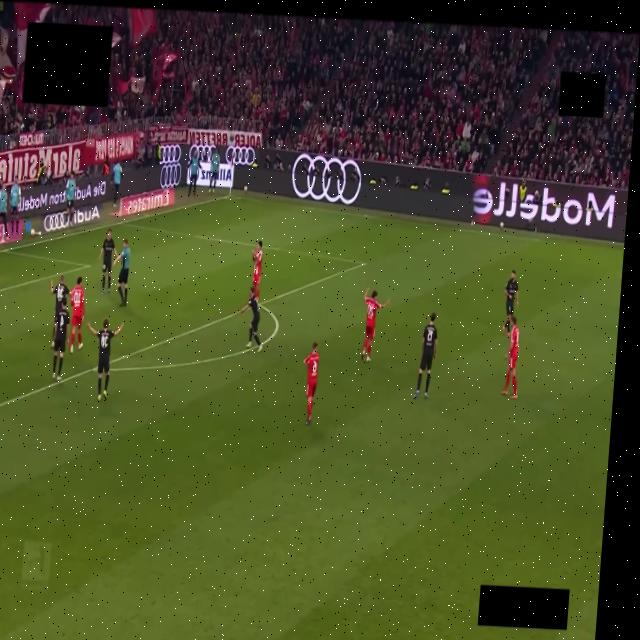player: (87, 319, 123, 400), (413, 313, 437, 399), (361, 288, 388, 361), (238, 286, 261, 351), (52, 295, 69, 380), (501, 316, 518, 398), (303, 343, 318, 426), (98, 229, 116, 294), (69, 277, 84, 353), (502, 270, 518, 334), (50, 276, 68, 317), (252, 240, 262, 301)
referee: (113, 239, 129, 306)
